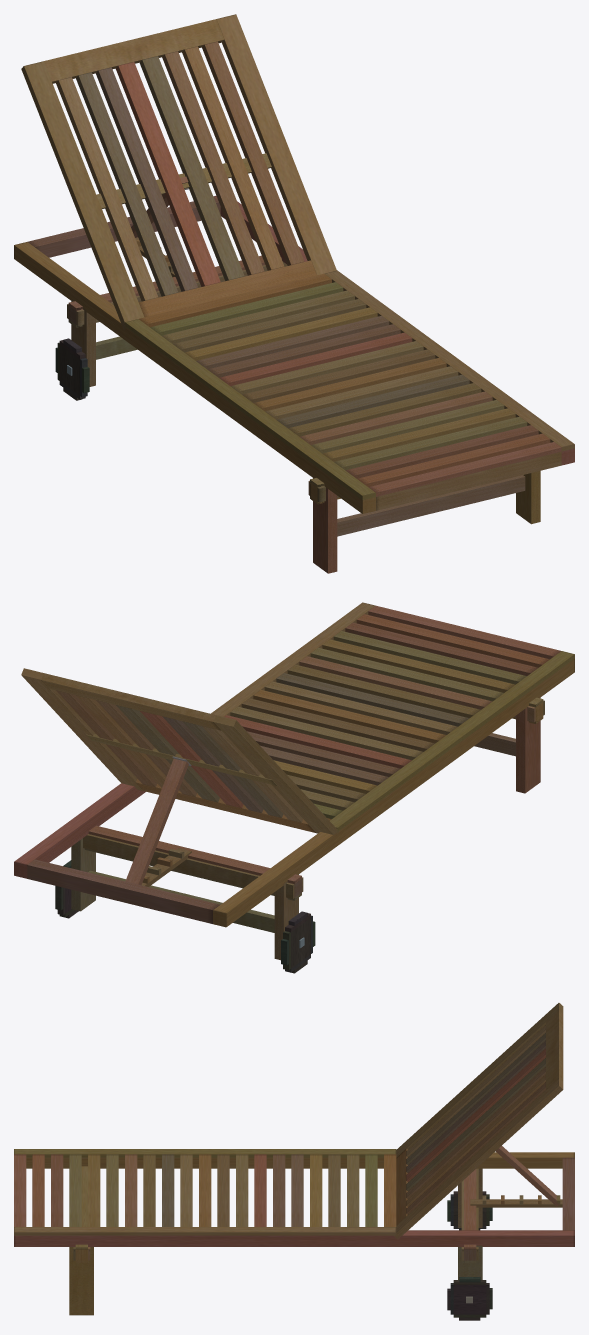
Rendered from obj_lounge_chair_f01622.glb.
The picture shows the model from 3 angles, top to bottom: view 1: azimuth 30°, elevation 25°; view 2: azimuth 150°, elevation 25°; view 3: azimuth 270°, elevation 25°; orthographic projection. The views are drawn at different scales.
Parts seen in each view (by area): view 1: obj_lounge_chair_f01622; view 2: obj_lounge_chair_f01622; view 3: obj_lounge_chair_f01622.
Part boxes in pixels (x1,y1,x2,y2): obj_lounge_chair_f01622: [14, 14, 574, 573]; obj_lounge_chair_f01622: [14, 602, 574, 973]; obj_lounge_chair_f01622: [14, 1003, 574, 1320].
Size of the model in its own units: 0.5815 by 0.6815 by 1.5.
Materials: 1 (1 with a texture image).
